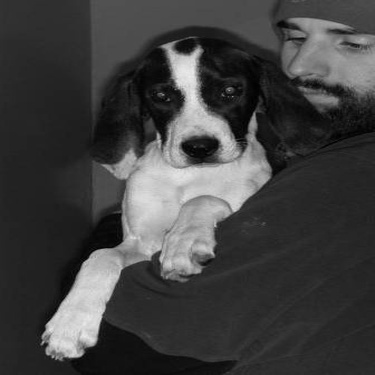dog: (31, 19, 337, 366)
